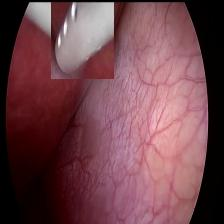Irrigator: (50, 0, 113, 78)
